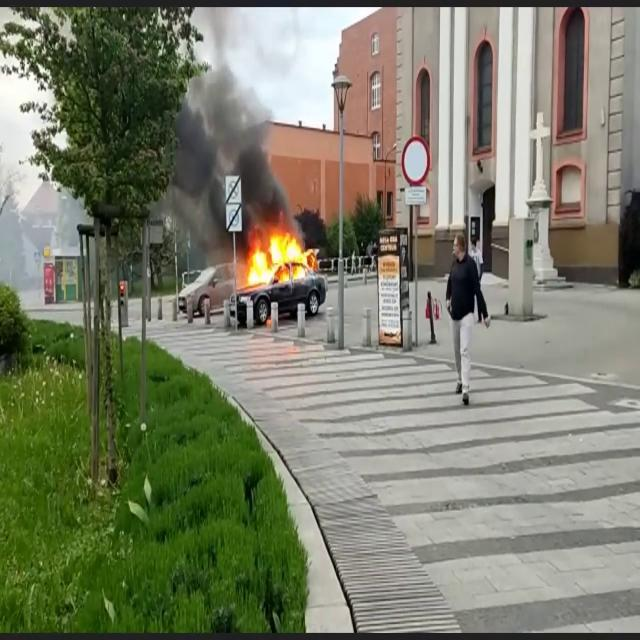Fire: (242, 226, 316, 286)
Smoke: (168, 5, 294, 228)
